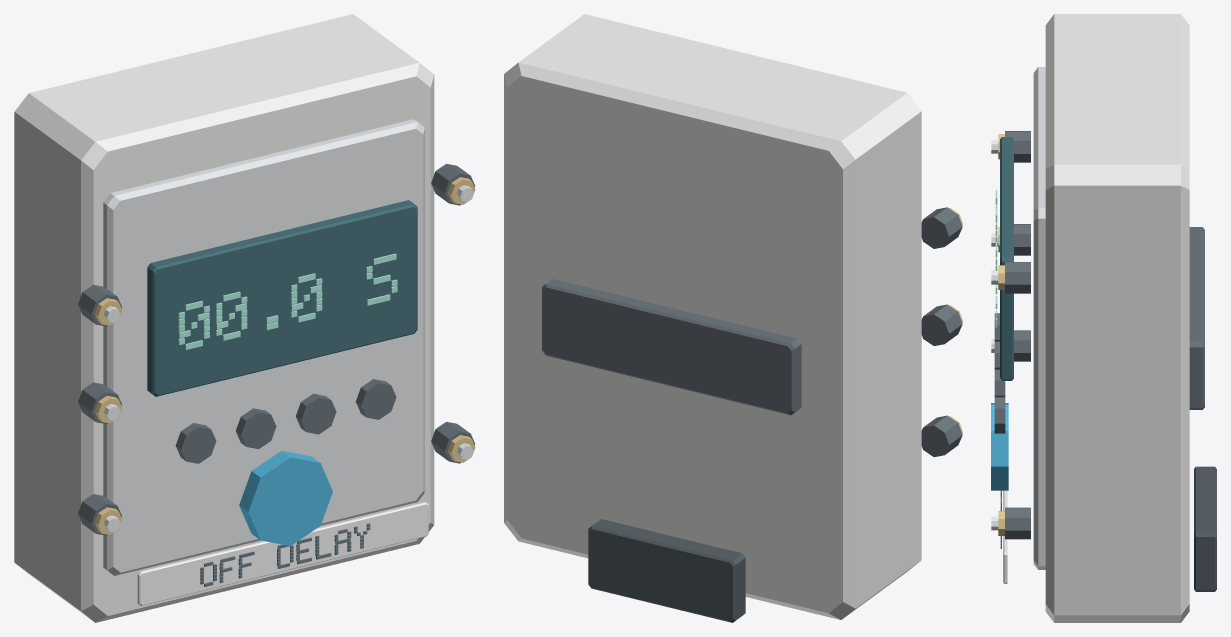
File: timerOffDelay.glb
The picture shows the model from 3 angles, left to right: view 1: azimuth 30°, elevation 25°; view 2: azimuth 150°, elevation 25°; view 3: azimuth 270°, elevation 25°; orthographic projection. The views are drawn at different scales.
Visible parts, largest first — view 1: timerOffDelay-board; view 2: timerOffDelay-board; view 3: timerOffDelay-board.
Boxes of the visible parts, x1,y1,x2,y2 form: timerOffDelay-board: (14,14,475,622); timerOffDelay-board: (504,14,962,622); timerOffDelay-board: (991,14,1216,622).
Size of the model in its own units: 2.4 by 2.95 by 1.28.
